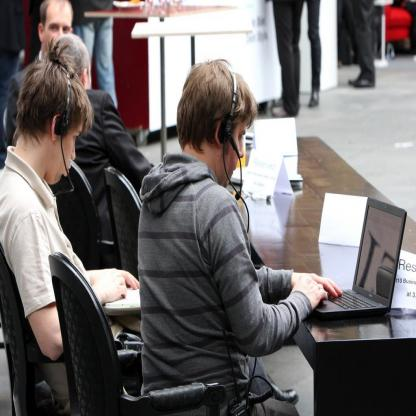board: (294, 210, 402, 336), (103, 288, 140, 314)
